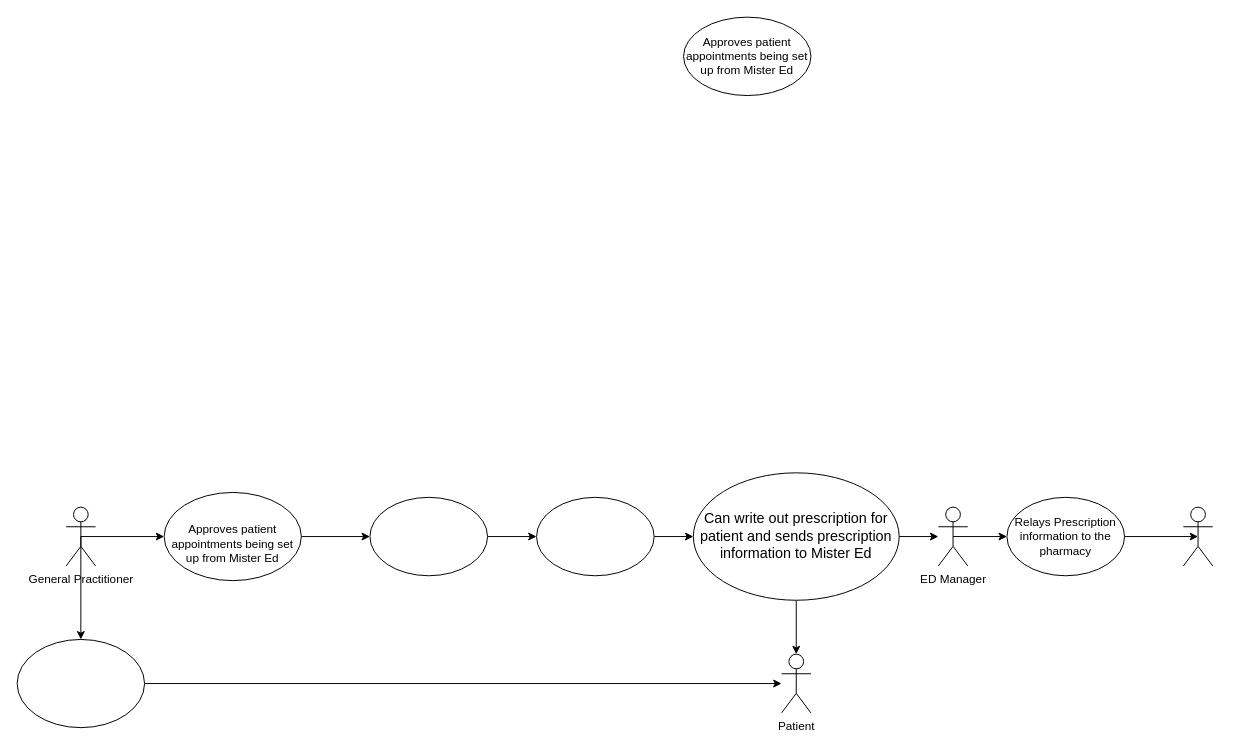
This 1242x751 diagram has some shape labels left out. The centre of each missing label's shape, as x and y in pixels:
"Can override the appointments and send the patient directly to ER" belongs at pixel 80 683.
"Diagnose Patients" belongs at pixel 595 536.
"Pharmacy" belongs at pixel 1197 536.
"Sees Patients" belongs at pixel 428 536.
